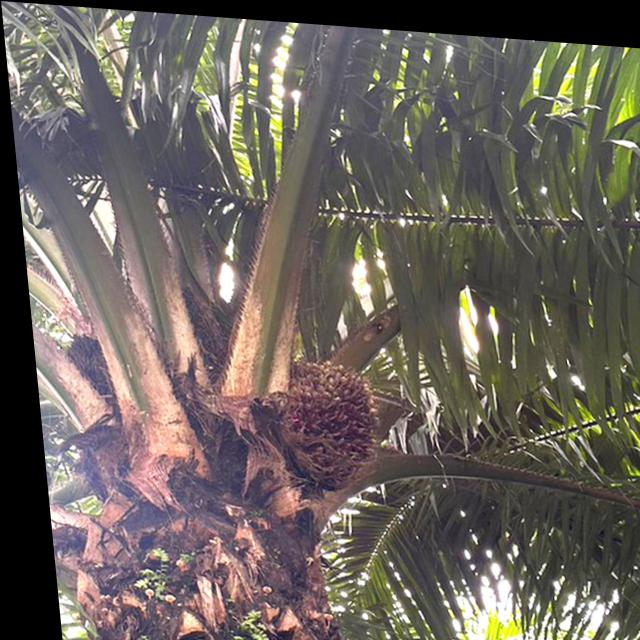ripe: (263, 346, 379, 485)
